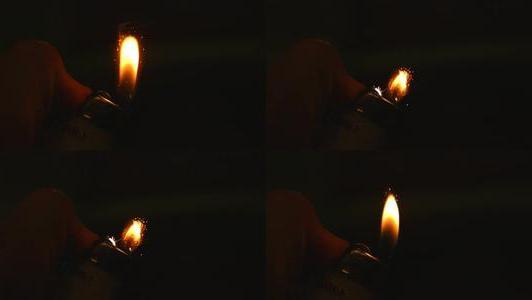fire: (106, 25, 146, 99), (370, 181, 407, 251), (103, 208, 150, 249), (377, 59, 417, 102)
